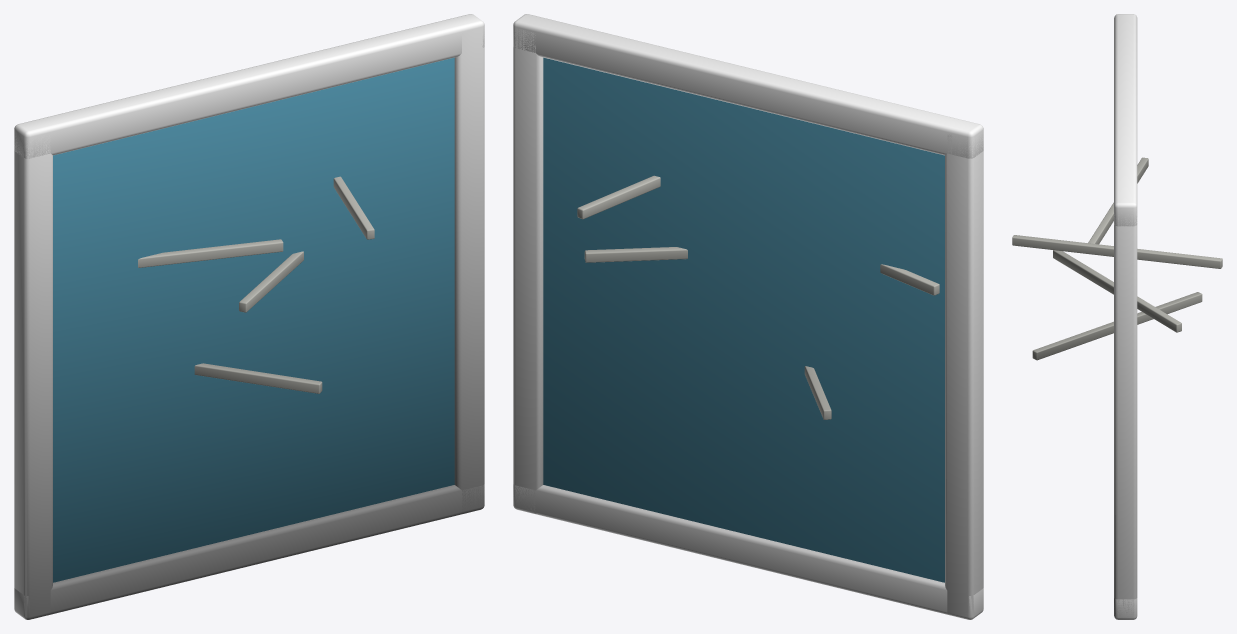
File: cracked-glass-pane.obj
The picture shows the model from 3 angles, left to right: view 1: azimuth 30°, elevation 25°; view 2: azimuth 150°, elevation 25°; view 3: azimuth 270°, elevation 25°; orthographic projection. The views are drawn at different scales.
Visible parts, largest first — view 1: cracked-glass-pane; view 2: cracked-glass-pane; view 3: cracked-glass-pane.
Boxes of the visible parts, x1=… form: cracked-glass-pane: x1=14, y1=14, x2=484, y2=619; cracked-glass-pane: x1=513, y1=14, x2=983, y2=619; cracked-glass-pane: x1=1012, y1=14, x2=1222, y2=619.
Bounding box in the file's own units: 0.88 × 0.8925 × 0.4083.
